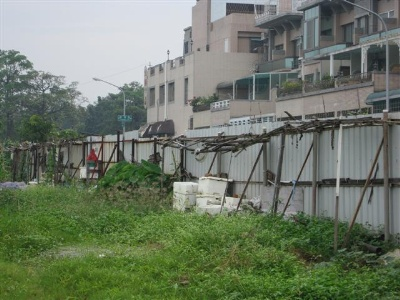styrofoam: (198, 179, 229, 195), (170, 193, 196, 207), (172, 181, 198, 194), (198, 205, 222, 215)
